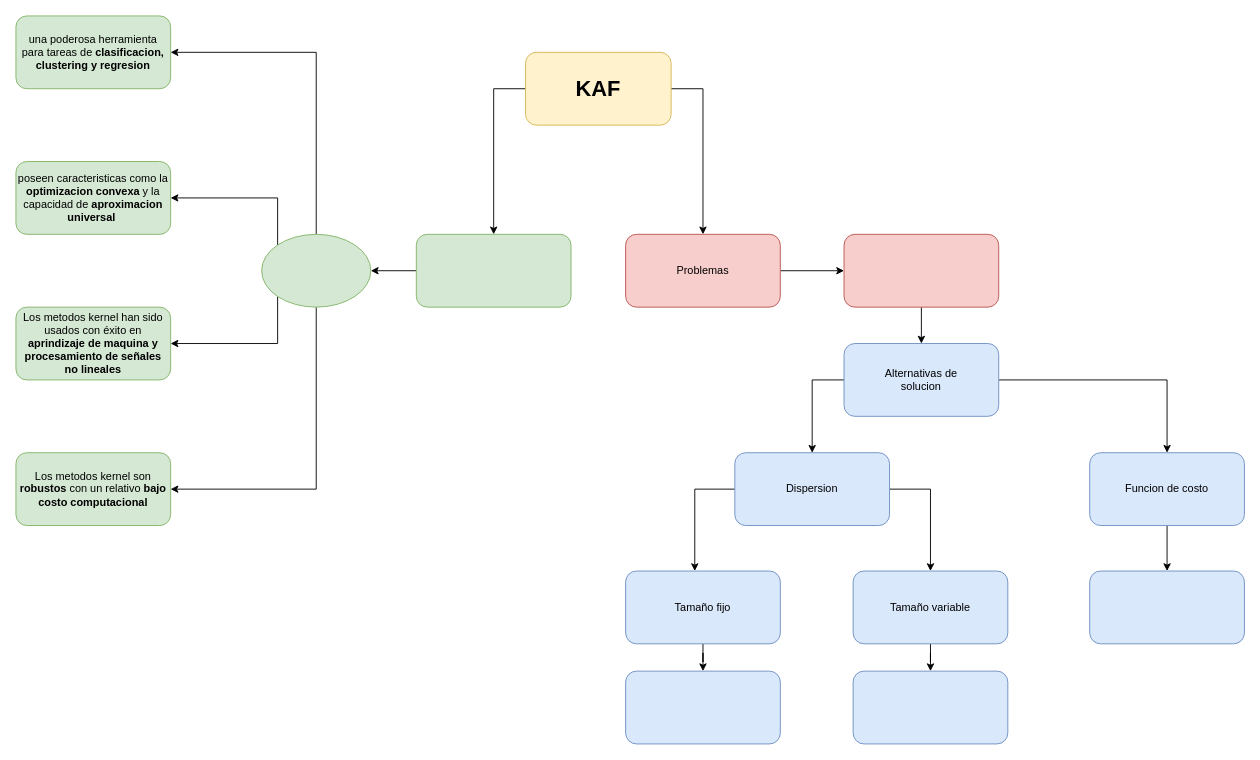
This 1260x760 diagram has some shape labels left out. The centre of each missing label's shape, as x and y in pixels:
"[1] Nystrom [2] RFF [4] RNN" goes at (x=702, y=707).
"[3] MDL" goes at (x=1166, y=607).
"[3] VQ" goes at (x=930, y=707).
"Los metodos kernel:" goes at (x=316, y=270).
"Motivaciones" goes at (x=493, y=270).
"Red linealmente creciente de RBF con cada muestra de entrada [1,2,3,5,6,7]" goes at (x=921, y=270).
